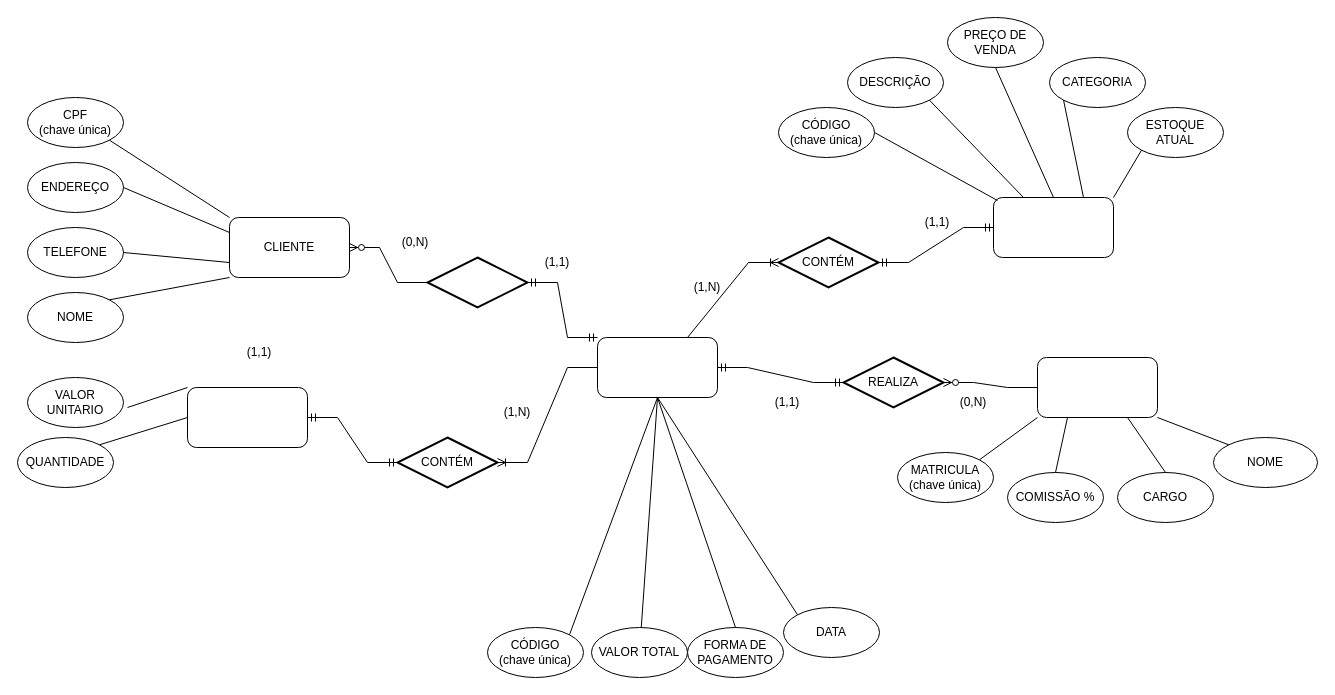
Image size: 1335x695. Some labels were removed from this diagram. The shapes that lost their labels are listed below. From the top down, each one's centre as x and y in pixels, then its label:
point (1053, 227): PRODUTO
point (477, 282): REALIZA COMPRA
point (657, 367): VENDA
point (1097, 387): VENDEDOR
point (247, 417): ItemVenda
